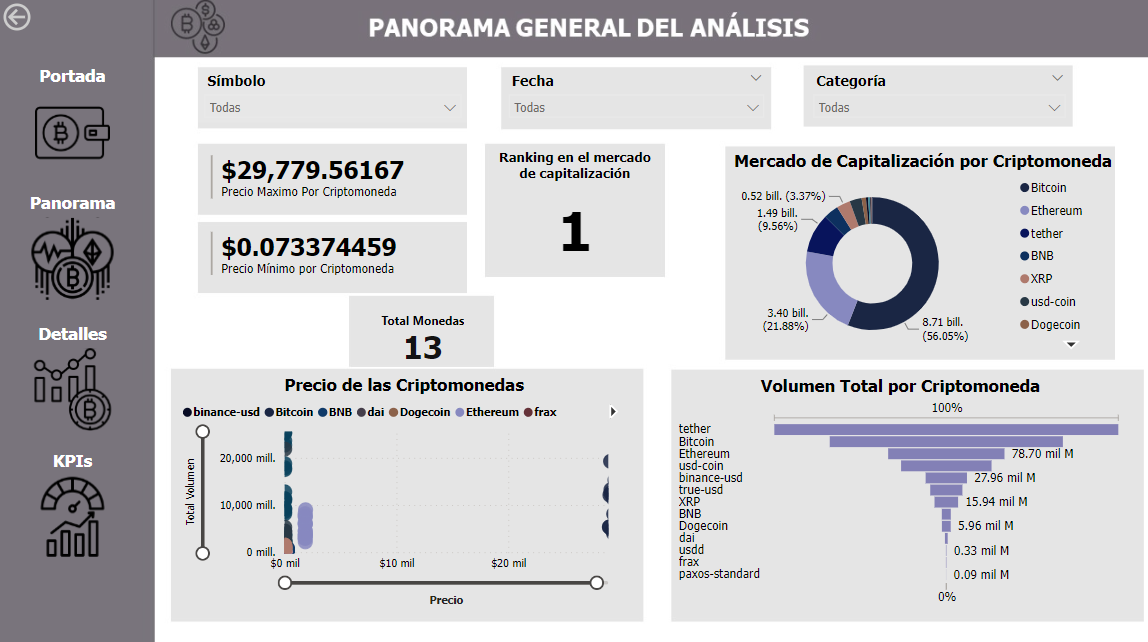

The page's visual inventory and layout, read from the dashboard file:
{"tool":"powerbi","page":{"name":"Panorama","canvas":[1280,720],"ordinal":1},"visuals":[{"type":"scatterChart","title":"Precio de las Criptomonedas","fields":{"X":["Cryptocurrency.Price"],"Y":["Cryptocurrency.TotalVolume"],"Series":["Cryptocurrency.Currency"]},"box":[198.3,416.7,503.3,260],"z":0},{"type":"slicer","fields":{"Values":["Cripto_Id.Symbol"]},"box":[218.3,75,305,61.7],"z":1000},{"type":"slicer","fields":{"Values":["calendario.Date"]},"box":[556.7,75,303.3,73.3],"z":2000},{"type":"multiRowCard","fields":{"Values":["Cryptocurrency.Precio Maximo Por Criptomoneda","Cryptocurrency.Precio Mínimo por Criptomoneda"]},"box":[186.7,325,563.3,71.7],"z":3000},{"type":"actionButton","box":[0,0,100,40],"z":4000},{"type":"cardVisual","title":"Total Monedas","fields":{"Data":["Cryptocurrency.Total Monedas"]},"box":[278.3,175,148.3,121.7],"z":5000},{"type":"donutChart","title":"Mercado de Capitalización por Criptomoneda","fields":{"Category":["Cryptocurrency.Currency"],"Y":["Sum(Cryptocurrency.MarketCap)"]},"box":[801.7,168.3,450,228.3],"z":6000},{"type":"funnel","title":"Volumen Total por Criptomoneda","fields":{"Category":["Cryptocurrency.Currency"],"Y":["Sum(Cryptocurrency.TotalVolume)"]},"box":[750,418.3,503.3,258.3],"z":7000},{"type":"slicer","fields":{"Values":["Cripto_Id.Category"]},"box":[895,75,300,61.7],"z":8000},{"type":"cardVisual","title":"Ranking en el mercado de capitalización","fields":{"Data":["Min(Cripto_Id.Ranking)"]},"box":[496.7,168.3,183.3,136.7],"z":9000},{"type":"actionButton","title":"Portada","box":[0,73.3,163.3,123.3],"z":9001},{"type":"actionButton","title":"Panorama","box":[0,215,163.3,123.3],"z":9002},{"type":"actionButton","title":"Detalles","box":[0,360,163.3,123.3],"z":9003},{"type":"actionButton","title":"KPIs","box":[0,501.7,163.3,123.3],"z":9004}]}

Visuals, with their boxes on the page's 1280x720 design canvas (x1, y1, x2, y2). These are canvas units, not pixel positions in the 1148x642 screenshot, which may show the page scaled, cropped or inside an application window:
"Precio de las Criptomonedas" scatterChart: bbox(198, 417, 702, 677)
slicer - Cripto_Id.Symbol: bbox(218, 75, 523, 137)
slicer - calendario.Date: bbox(557, 75, 860, 148)
multiRowCard - Cryptocurrency.Precio Maximo Por Criptomoneda x Cryptocurrency.Precio Mínimo por Criptomoneda: bbox(187, 325, 750, 397)
actionButton: bbox(0, 0, 100, 40)
"Total Monedas" cardVisual: bbox(278, 175, 427, 297)
"Mercado de Capitalización por Criptomoneda" donutChart: bbox(802, 168, 1252, 397)
"Volumen Total por Criptomoneda" funnel: bbox(750, 418, 1253, 677)
slicer - Cripto_Id.Category: bbox(895, 75, 1195, 137)
"Ranking en el mercado de capitalización" cardVisual: bbox(497, 168, 680, 305)
"Portada" actionButton: bbox(0, 73, 163, 197)
"Panorama" actionButton: bbox(0, 215, 163, 338)
"Detalles" actionButton: bbox(0, 360, 163, 483)
"KPIs" actionButton: bbox(0, 502, 163, 625)
